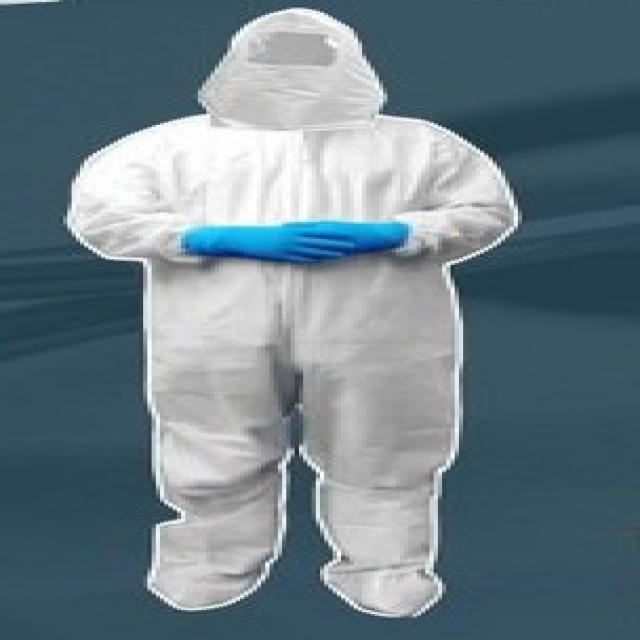Coverall: (51, 4, 530, 621)
Gloves: (181, 215, 408, 265)
